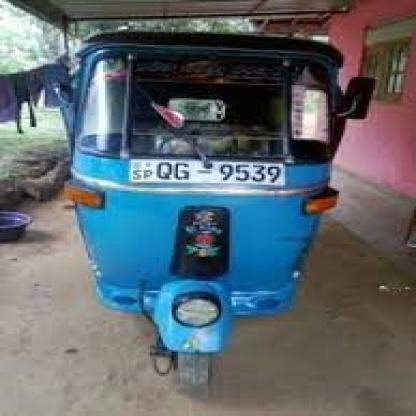number plate: (129, 160, 290, 186)
three wheeler front: (55, 26, 376, 398)
